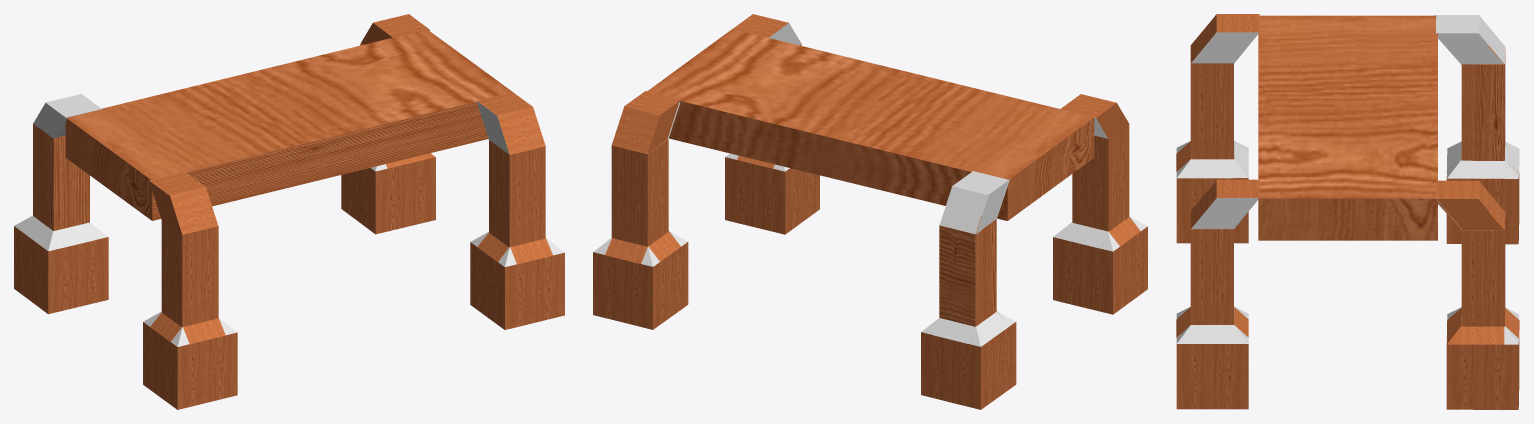
The model's file is Table.fbx.
3 views of the same model, side by side, from view 1: azimuth 30°, elevation 25°; view 2: azimuth 150°, elevation 25°; view 3: azimuth 270°, elevation 25° (orthographic). The views are drawn at different scales.
Parts seen in each view (by area): view 1: Cube.024, Cube.022, Cube.010, Cube.001, Cube.013, Cube.005, Cube.018, Cube.006, Plane.023, Plane.004, Plane.006, Plane.021 (+11 smaller); view 2: Cube.024, Cube.010, Cube.013, Cube.001, Cube.022, Cube.006, Cube.017, Cube.005, Plane.018, Plane.009, Plane.020, Plane.007 (+11 smaller); view 3: Cube.024, Cube.013, Cube.022, Cube.006, Cube.017, Cube.005, Cube.018, Cube.010, Cube.001, Plane.031, Plane.033, Plane.034 (+13 smaller).
Boxes of the visible parts, box(x1,y1,x2,y2) form: Cube.024: box(65, 30, 512, 220); Cube.022: box(470, 242, 564, 329); Cube.010: box(14, 226, 108, 314); Cube.001: box(143, 322, 237, 409); Cube.013: box(341, 157, 435, 234); Cube.005: box(161, 220, 218, 336); Cube.018: box(489, 140, 545, 247); Cube.006: box(33, 123, 89, 230); Plane.023: box(497, 107, 545, 154); Plane.004: box(170, 187, 218, 234); Plane.006: box(149, 172, 205, 195); Plane.021: box(477, 92, 532, 115); Cube.024: box(647, 29, 1094, 220); Cube.010: box(921, 322, 1016, 409); Cube.013: box(593, 242, 688, 329); Cube.001: box(1053, 226, 1147, 314); Cube.022: box(725, 157, 819, 234); Cube.006: box(939, 215, 996, 326); Cube.017: box(611, 139, 668, 246); Cube.005: box(1072, 125, 1129, 231); Plane.018: box(612, 106, 659, 154); Plane.009: box(939, 186, 987, 234); Plane.020: box(624, 91, 680, 114); Plane.007: box(952, 171, 1008, 194); Cube.024: box(1258, 15, 1437, 240); Cube.013: box(1446, 314, 1519, 409); Cube.022: box(1176, 320, 1248, 409); Cube.006: box(1461, 46, 1505, 160); Cube.017: box(1461, 212, 1505, 326); Cube.005: box(1190, 49, 1233, 159); Cube.018: box(1190, 228, 1233, 324); Cube.010: box(1446, 154, 1519, 244); Cube.001: box(1176, 154, 1248, 243); Plane.031: box(1191, 32, 1259, 63); Plane.033: box(1434, 33, 1503, 64); Plane.034: box(1434, 198, 1503, 229).
Bounding box in the file's own units: 647 × 314 × 477.
